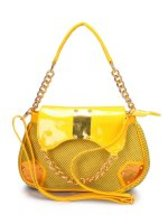bag: (13, 25, 161, 209)
